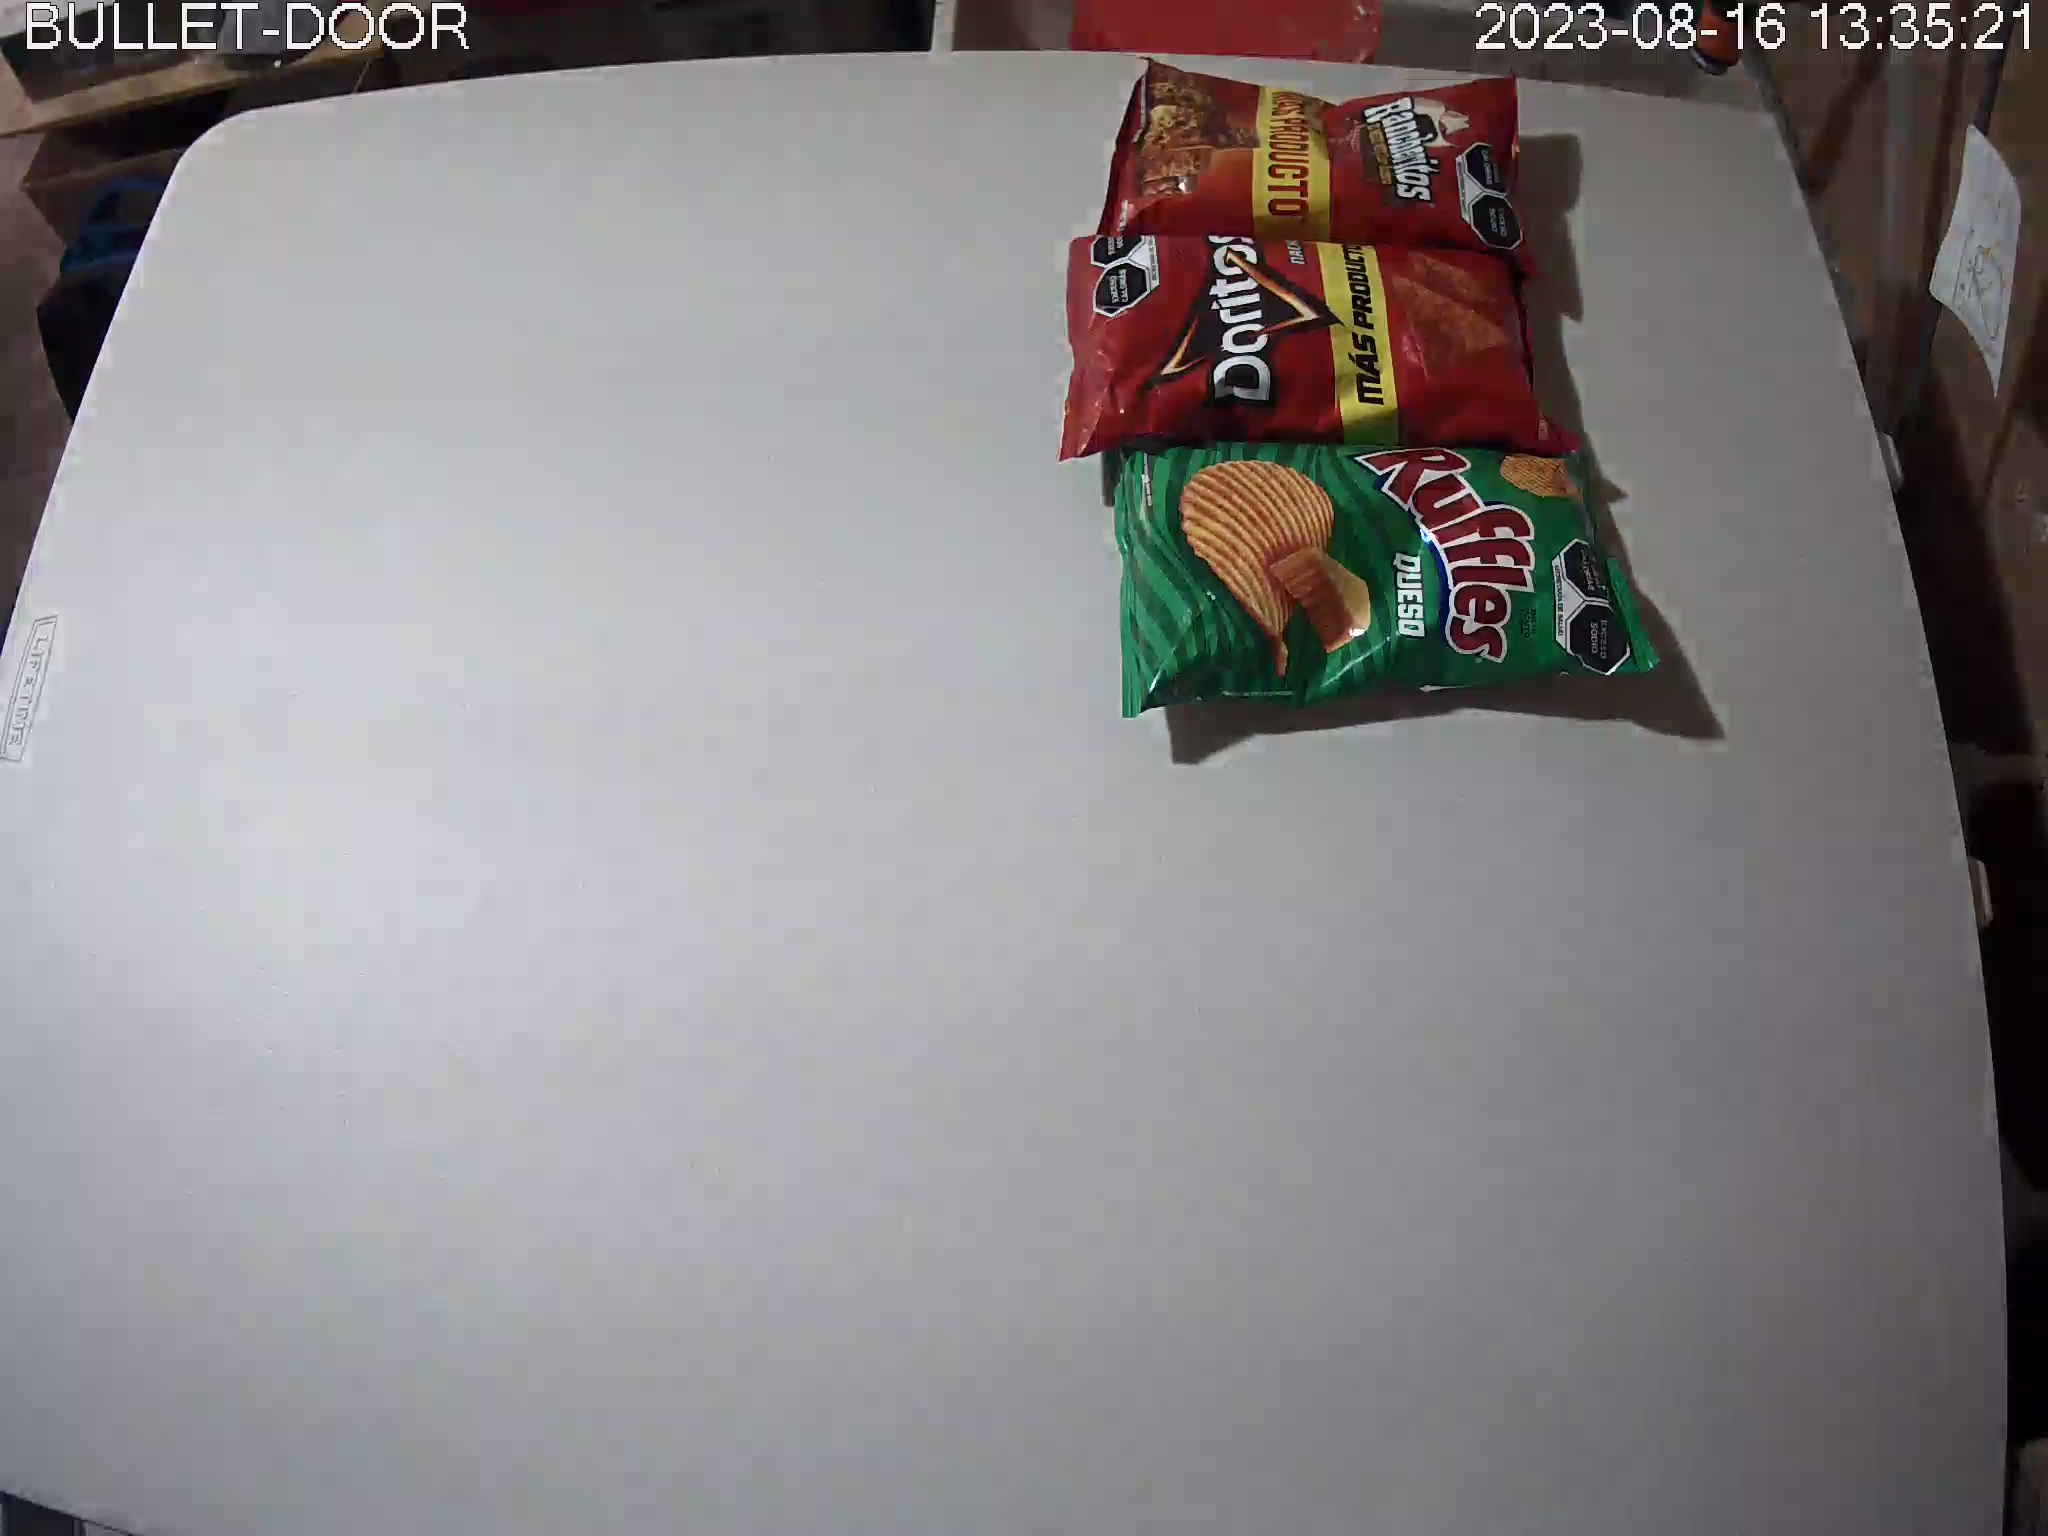DoritosN_61_F: (1059, 232, 1584, 458)
Rancheritos_58_F: (1097, 53, 1535, 287)
RufflesQ_48_F: (1113, 428, 1667, 721)
